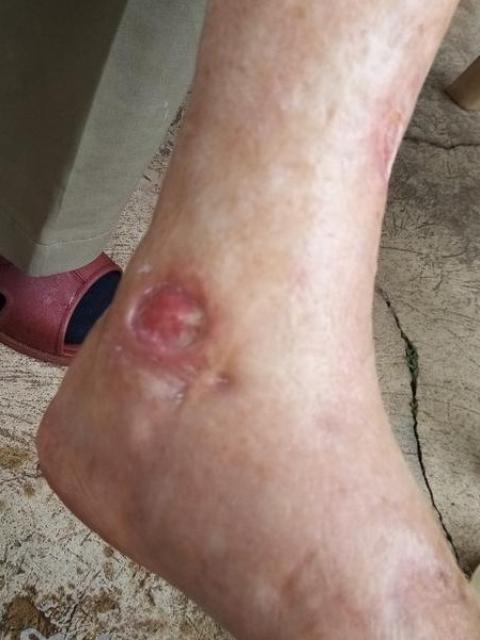wound: (124, 278, 208, 349)
